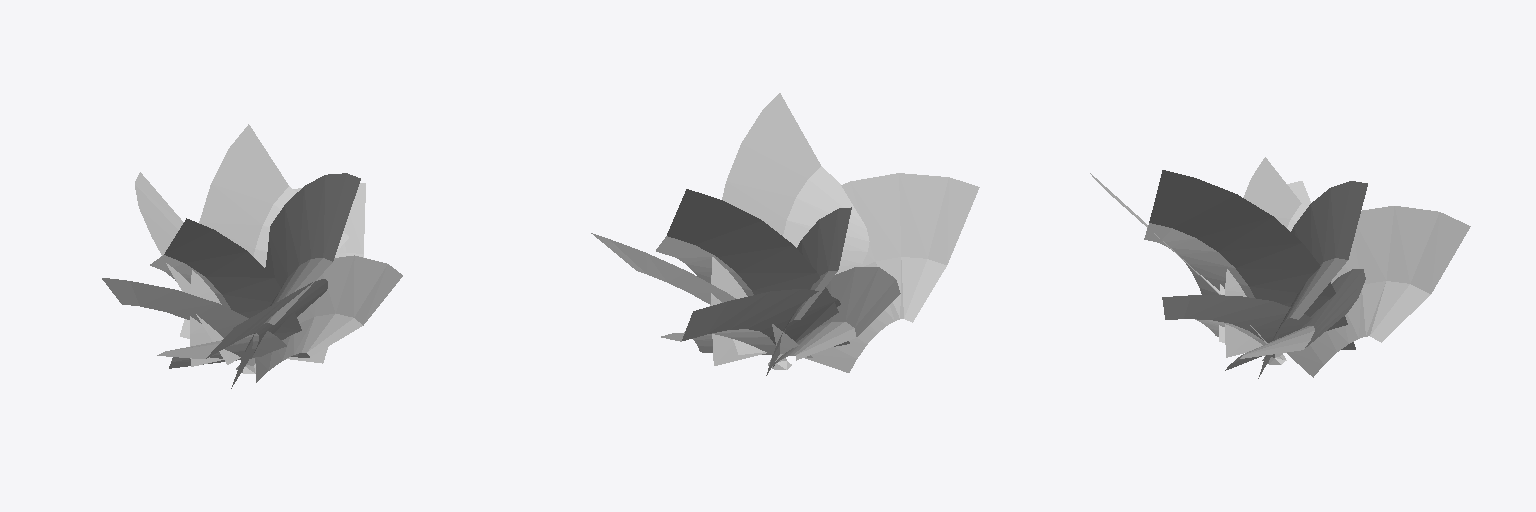
The model's file is Cartoon Plant_3a.obj.
3 renders of one model, left to right at view 1: azimuth 30°, elevation 25°; view 2: azimuth 150°, elevation 25°; view 3: azimuth 270°, elevation 25°, orthographic.
Parts seen in each view (by area): view 1: Cartoon Plant_3a; view 2: Cartoon Plant_3a; view 3: Cartoon Plant_3a.
Part boxes in pixels (x1,y1,x2,y2): Cartoon Plant_3a: (102, 124, 402, 388); Cartoon Plant_3a: (591, 93, 979, 375); Cartoon Plant_3a: (1090, 157, 1470, 378).
Bounding box in the file's own units: 12.51 × 9.05 × 14.38.